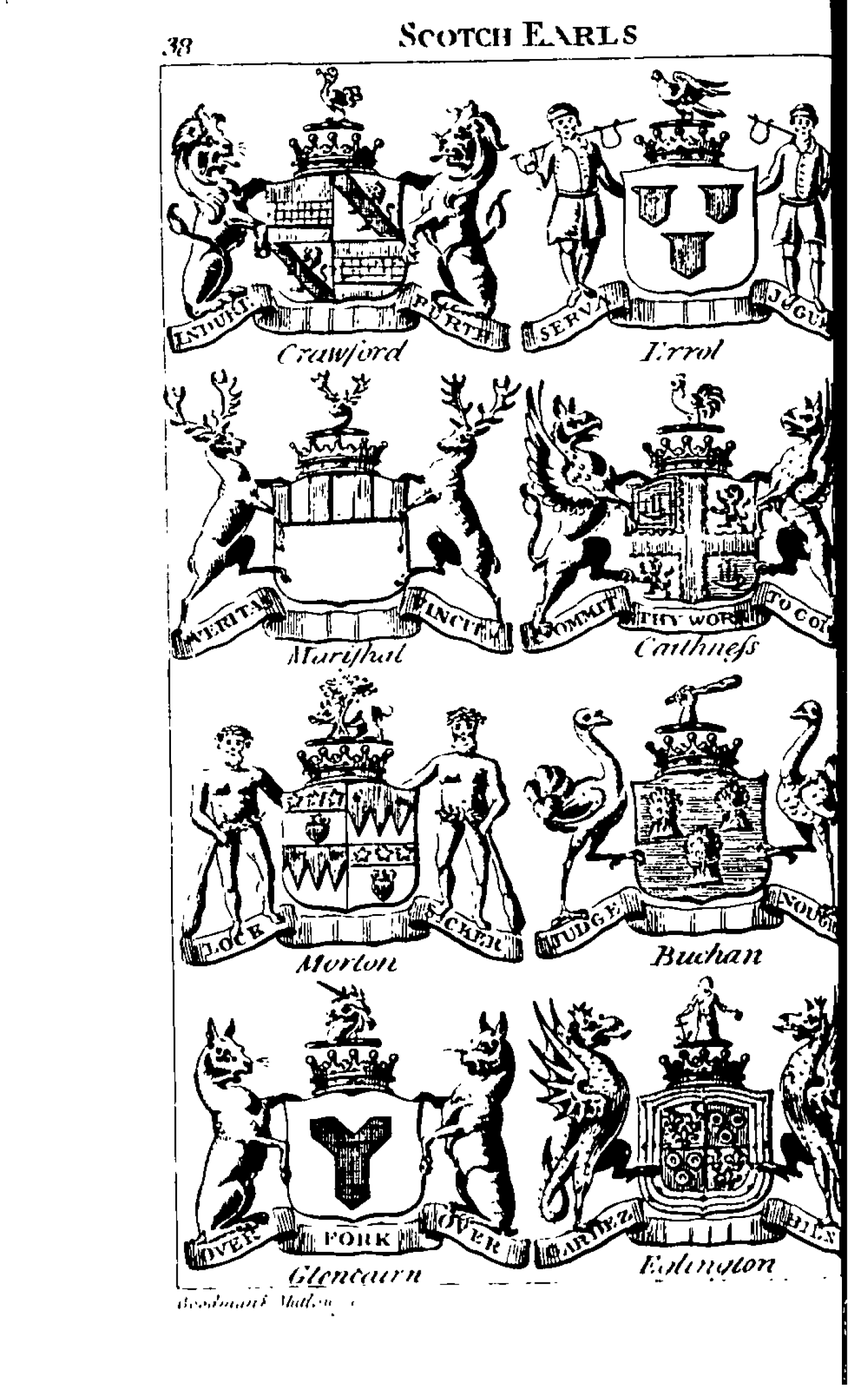coat_of_arms: (164, 365, 519, 679), (163, 677, 527, 975), (177, 979, 530, 1286), (176, 71, 510, 370), (525, 974, 848, 1279), (522, 669, 841, 976), (514, 66, 836, 370), (517, 368, 836, 662)
